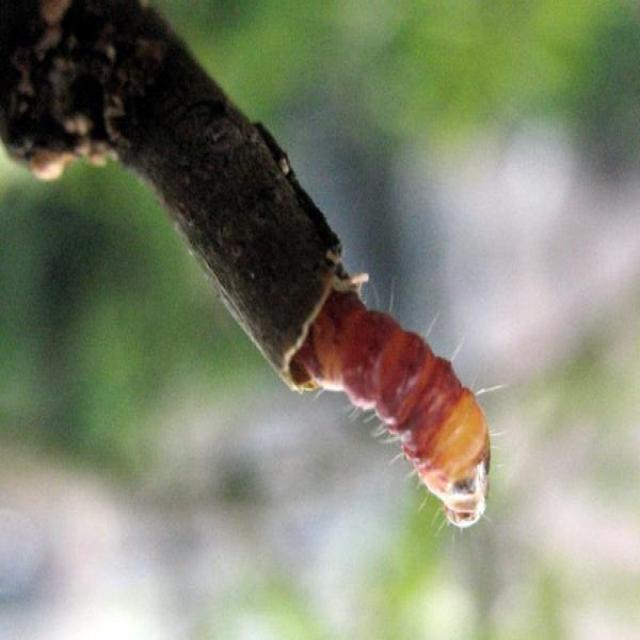peach borer: (297, 274, 488, 533)
